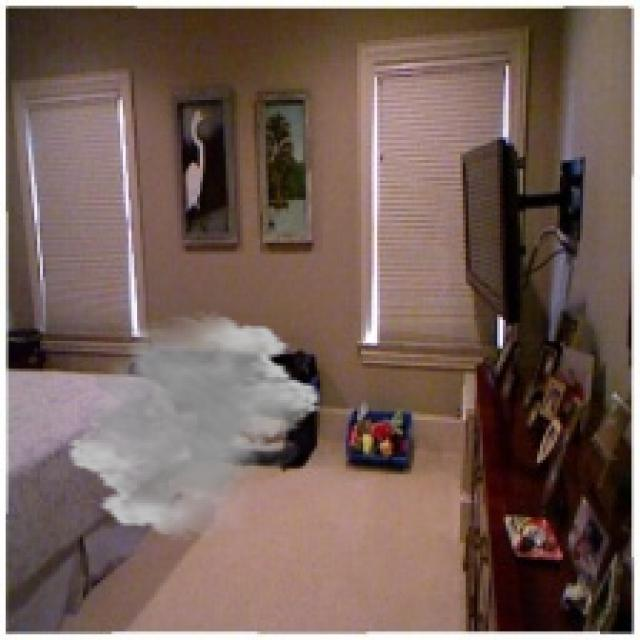smoke: (66, 311, 323, 540)
